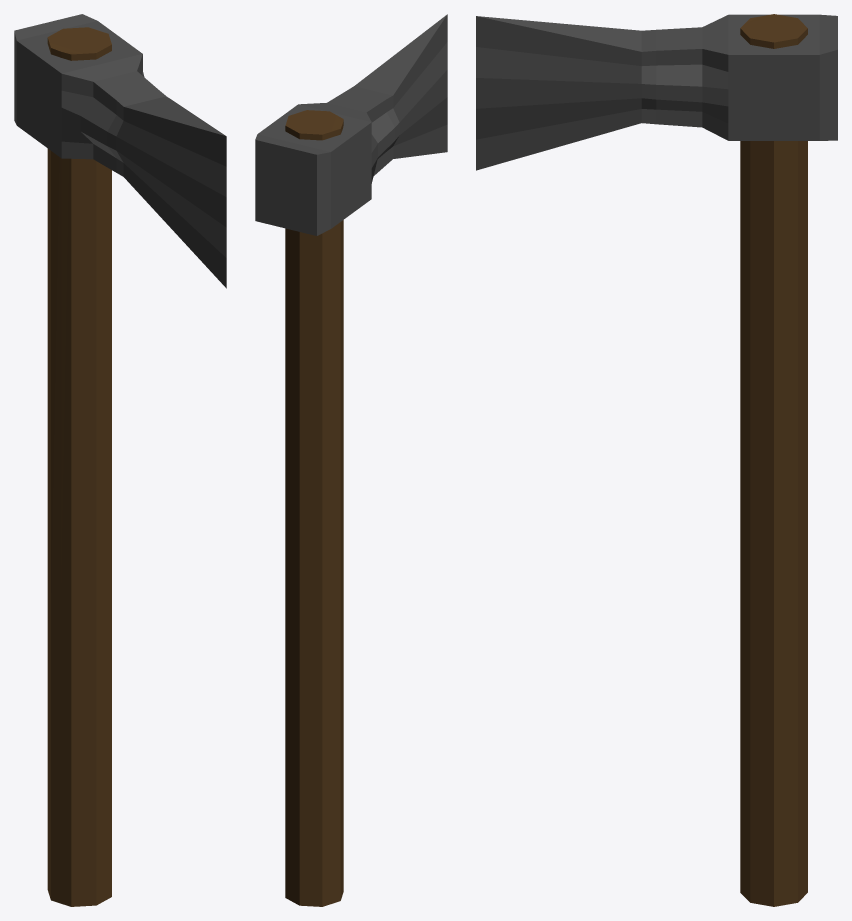
The model's file is Axe.fbx.
The picture shows the model from 3 angles, left to right: view 1: azimuth 30°, elevation 25°; view 2: azimuth 150°, elevation 25°; view 3: azimuth 270°, elevation 25°; orthographic projection. The views are drawn at different scales.
Visible parts, largest first — view 1: Axe; view 2: Axe; view 3: Axe.
Boxes of the visible parts, x1=… form: Axe: x1=14, y1=14, x2=226, y2=906; Axe: x1=255, y1=14, x2=447, y2=906; Axe: x1=476, y1=14, x2=837, y2=906.
Size of the model in its own units: 5 by 50.9 by 19.04.
